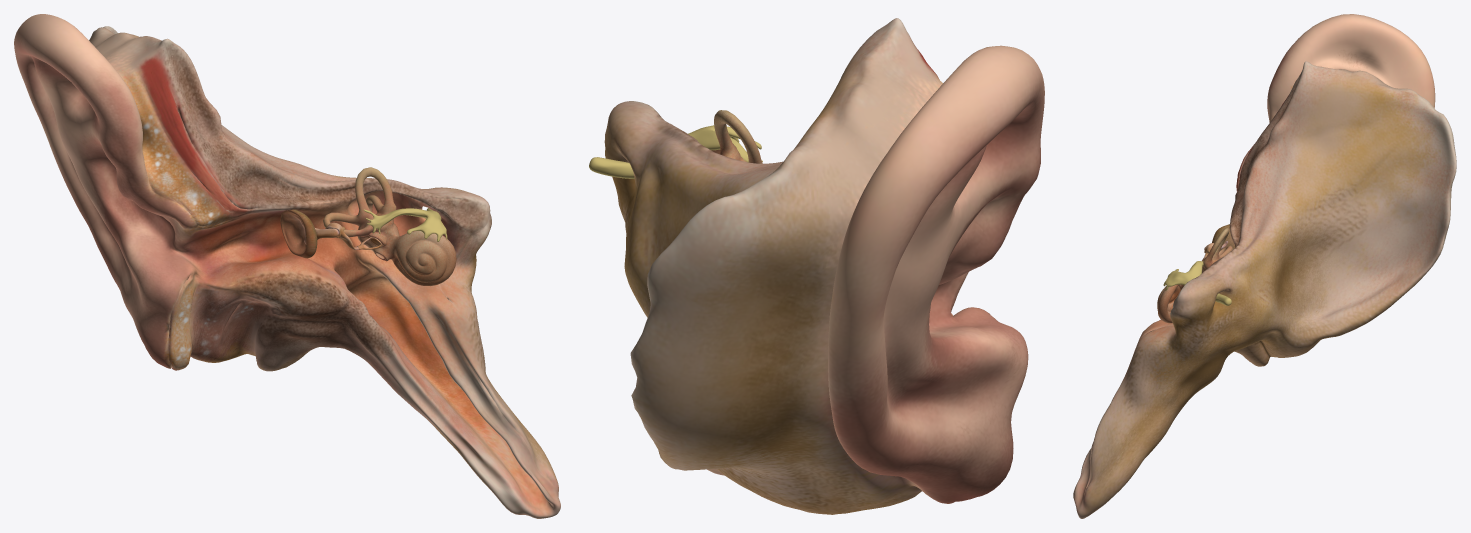
File: adult_ear.glb
The picture shows the model from 3 angles, left to right: view 1: azimuth 30°, elevation 25°; view 2: azimuth 150°, elevation 25°; view 3: azimuth 270°, elevation 25°; orthographic projection. The views are drawn at different scales.
Parts seen in each view (by area): view 1: Ear, LabirynthEar, Tympanic_membrane, Vestibulocochlear_nerve, Ossicles; view 2: Ear, Vestibulocochlear_nerve, LabirynthEar; view 3: Ear, LabirynthEar, Vestibulocochlear_nerve.
Boxes of the visible parts, x1,y1,x2,y2 form: Ear: (14, 14, 560, 518); LabirynthEar: (323, 167, 456, 286); Tympanic_membrane: (280, 209, 317, 258); Vestibulocochlear_nerve: (364, 208, 447, 241); Ossicles: (315, 222, 382, 249); Ear: (604, 18, 1044, 514); Vestibulocochlear_nerve: (589, 125, 762, 178); LabirynthEar: (711, 110, 762, 163); Ear: (1073, 14, 1456, 518); LabirynthEar: (1157, 228, 1232, 323); Vestibulocochlear_nerve: (1163, 261, 1231, 305).
Size of the model in its own units: 0.0342 by 0.0409 by 0.0382.
5 materials, 5 textured.
